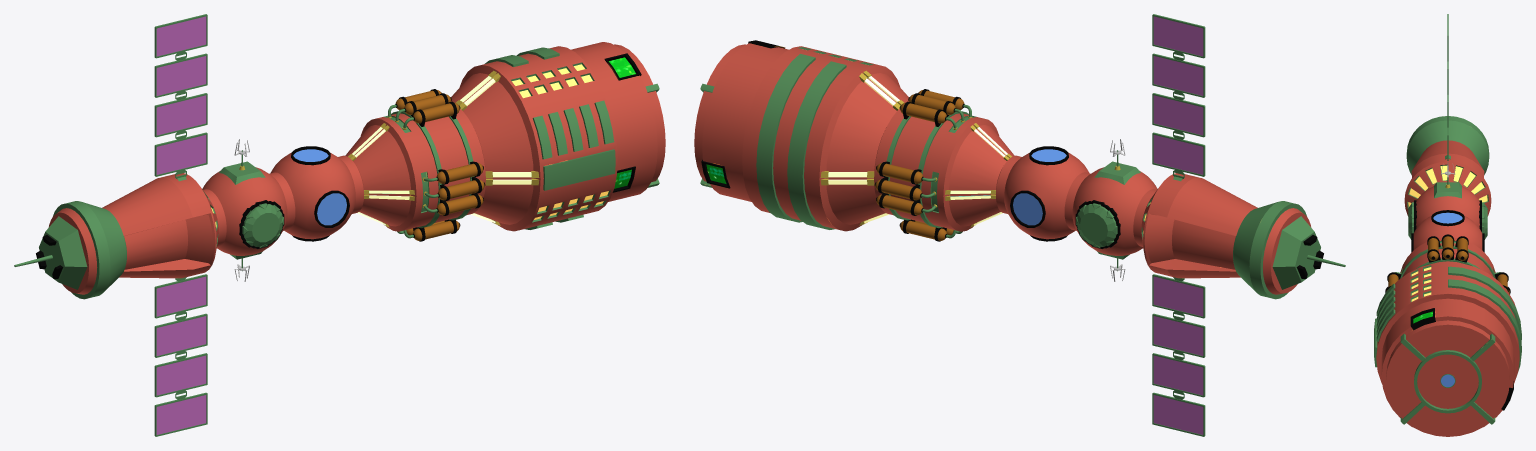
The model's file is Sci-Fi_SpaceStation.fbx.
3 renders of one model, left to right at view 1: azimuth 30°, elevation 25°; view 2: azimuth 150°, elevation 25°; view 3: azimuth 270°, elevation 25°, orthographic. The views are drawn at different scales.
Visible parts, largest first — view 1: Body, SolarPanels, Barrels, Tip, Lights, Doors; view 2: Body, SolarPanels, Barrels, Tip, Lights, Doors; view 3: Body, Barrels, Doors, SolarPanels.
Part boxes in pixels (x1,y1,x2,y2): Body: (48, 42, 665, 299); SolarPanels: (154, 14, 207, 436); Barrels: (387, 89, 485, 241); Tip: (14, 216, 87, 289); Lights: (348, 70, 539, 227); Doors: (239, 200, 284, 248); Body: (694, 40, 1311, 299); SolarPanels: (1152, 14, 1205, 436); Barrels: (874, 89, 972, 241); Tip: (1272, 216, 1345, 289); Lights: (820, 70, 1011, 227); Doors: (1075, 200, 1120, 248); Body: (1374, 116, 1521, 436); Barrels: (1385, 234, 1510, 294); Doors: (1408, 200, 1487, 239); SolarPanels: (1445, 14, 1450, 160).
Size of the model in its own units: 56.11 by 35.54 by 13.79.
